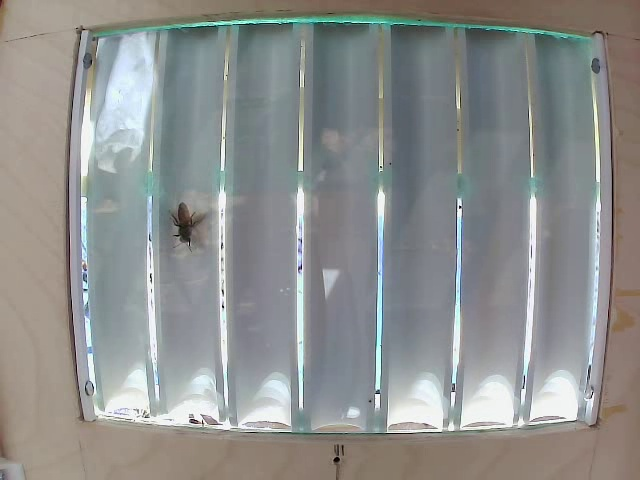bee: (162, 194, 214, 263)
